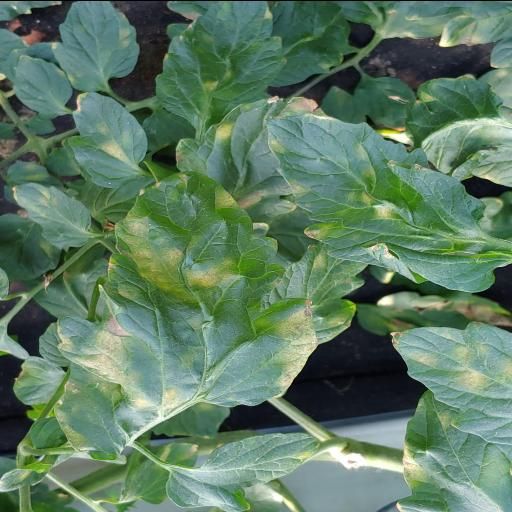Leaf Mold: (56, 170, 318, 432), (262, 114, 504, 292), (155, 0, 287, 123), (388, 320, 512, 444), (70, 90, 148, 188)
